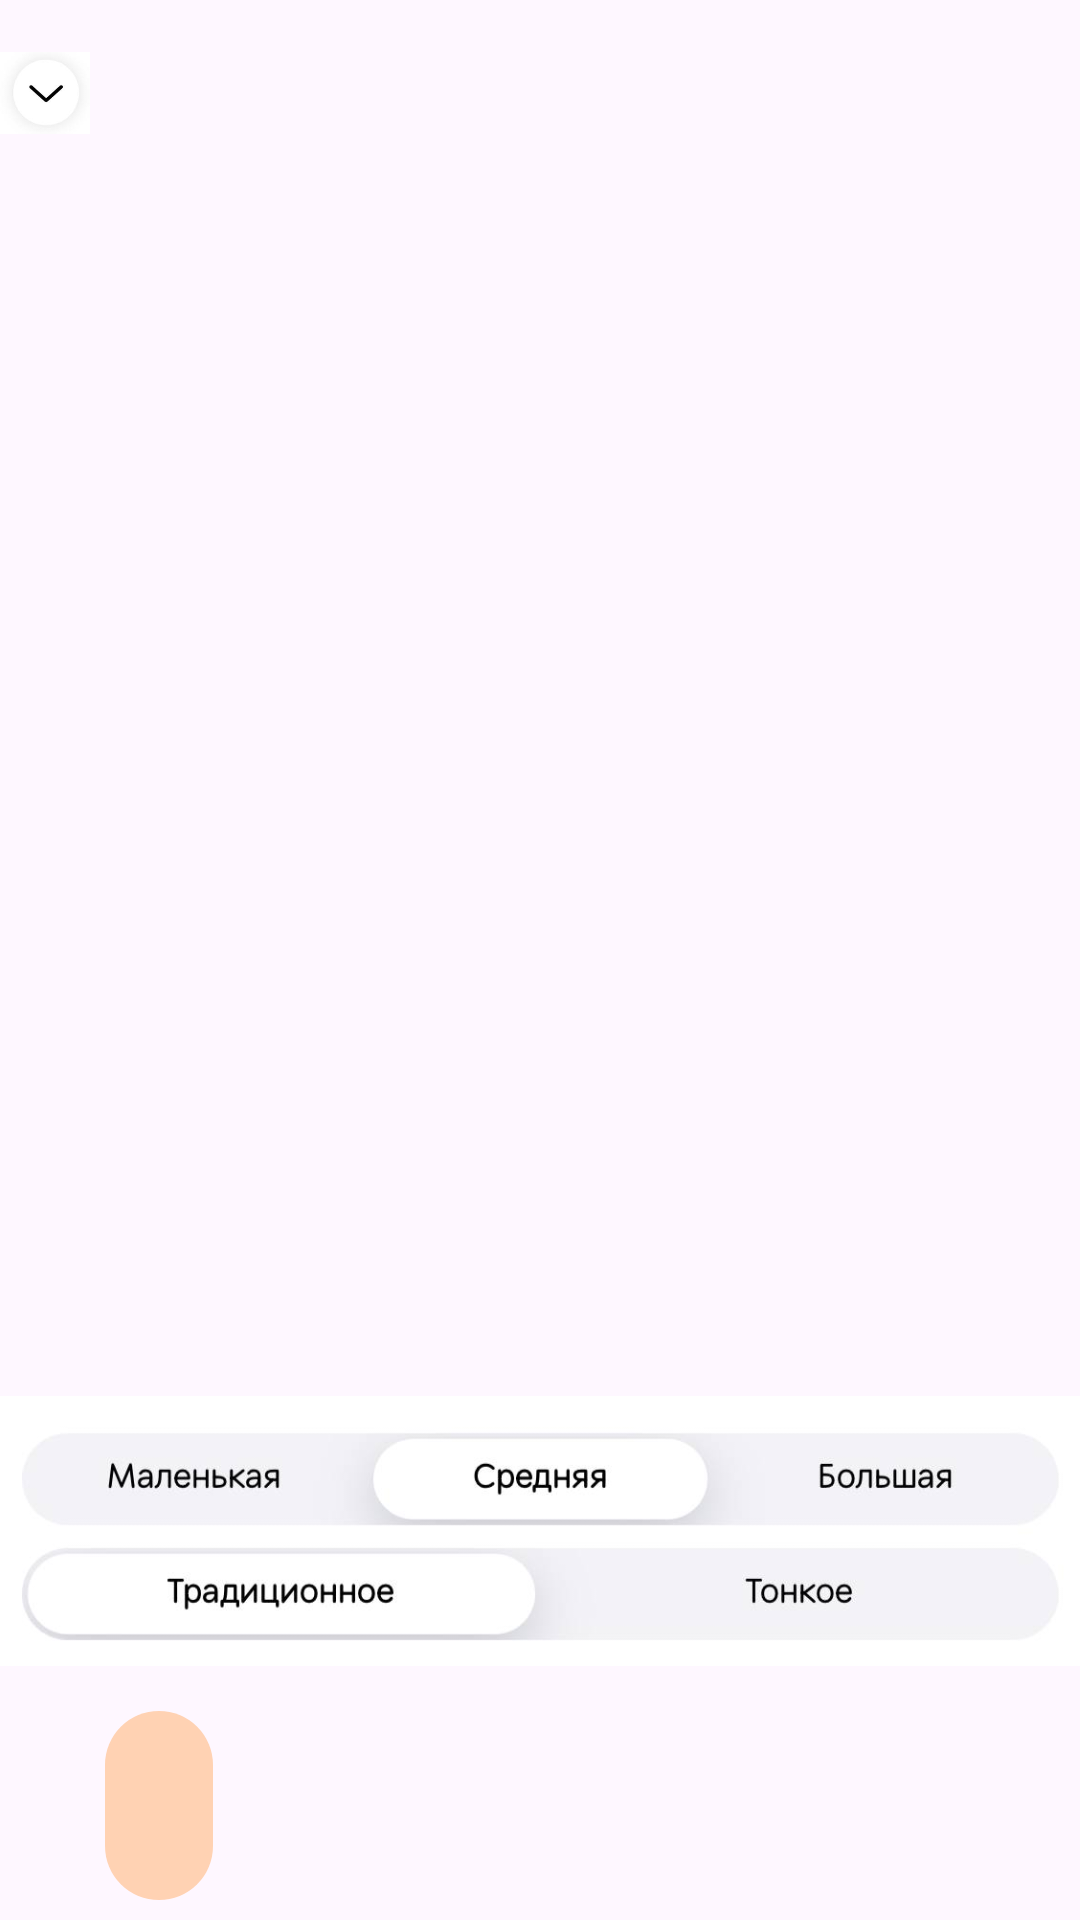

Icon bounding boxes for this 1080px×1920px phone screenshot, format (x1, y1, x2, y2):
back: (29, 85, 63, 102)
